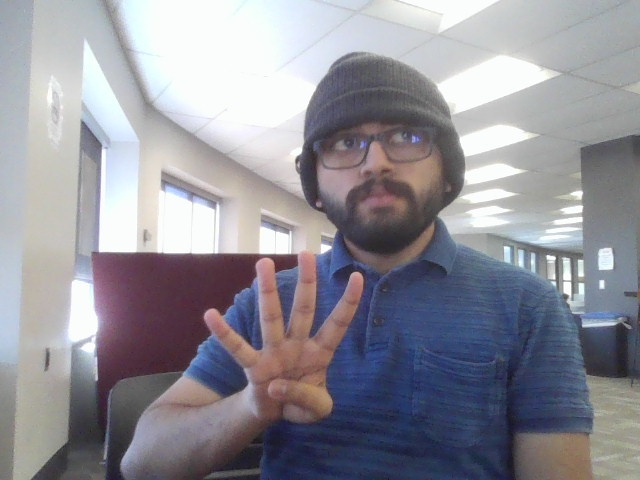start: (203, 248, 382, 432)
